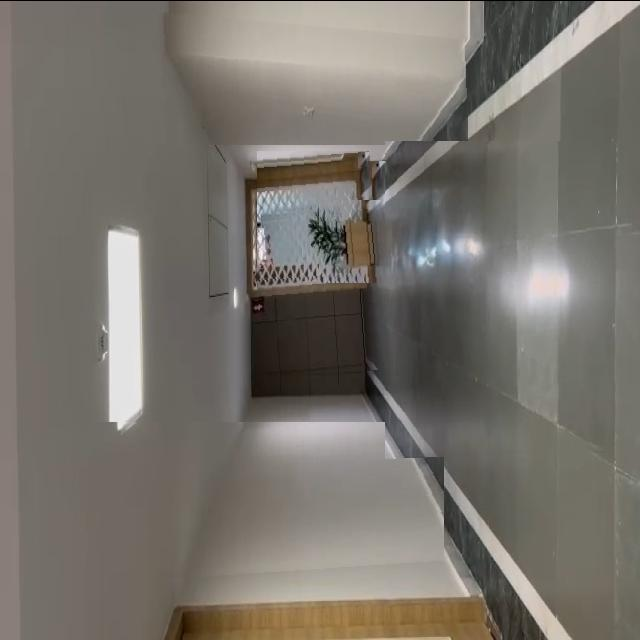door: (257, 150, 384, 378)
floor: (385, 140, 634, 458)
furniture: (319, 199, 388, 282)
wall: (47, 421, 444, 586), (44, 0, 470, 144)
